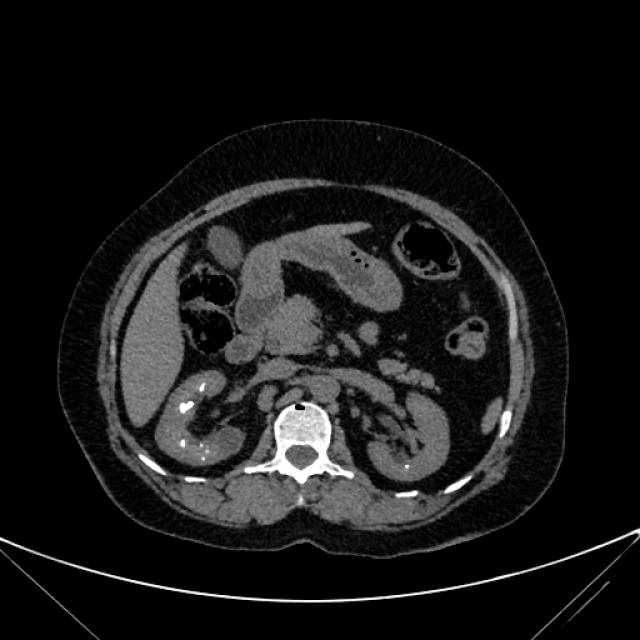kidney: (163, 372, 237, 469), (374, 401, 445, 481)
stone: (181, 403, 193, 411), (180, 439, 186, 446), (200, 384, 204, 392), (206, 449, 210, 453), (406, 463, 408, 468), (200, 443, 203, 446)
